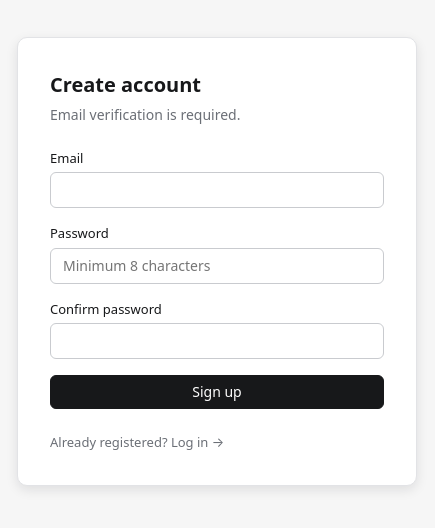
Test case: signup validation › blocks submit when passwords do not match
This screenshot has width=435, height=528.
Type "alice@example.com" into the field labelled "Email" at {"x": 217, "y": 190}, box [50,172,384,208]
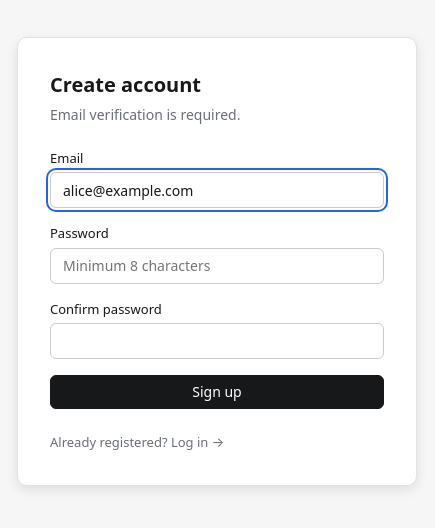
Type "password123" into the password field labelled "Password" at {"x": 217, "y": 266}, box [50,248,384,284]
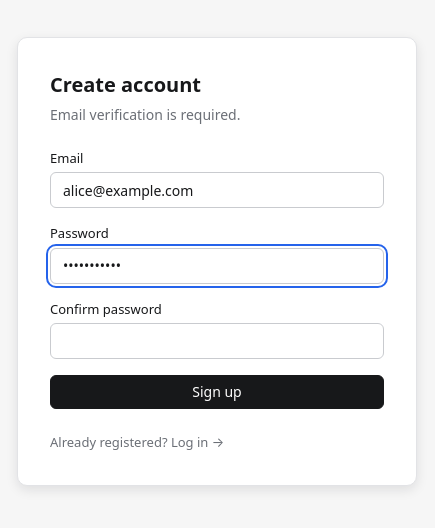
Type "password124" into the password field labelled "Confirm password" at {"x": 217, "y": 341}, box [50,323,384,359]
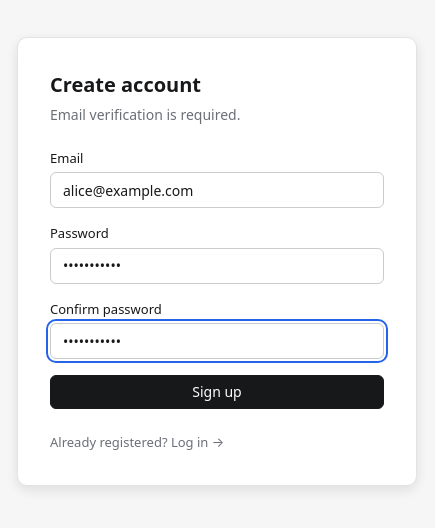
Click the button "Sign up" at {"x": 217, "y": 392}, box [50,375,384,409]
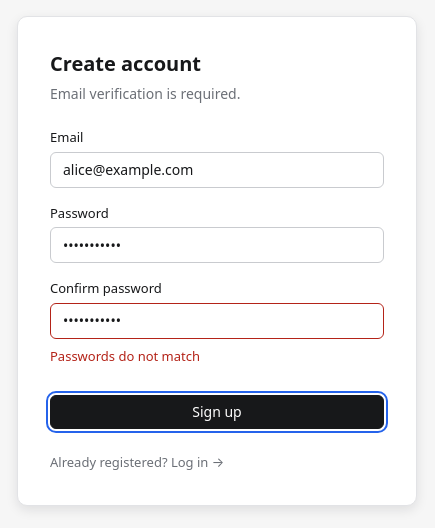
Result: the text "Passwords do not match" is shown at [50,347,200,365]
